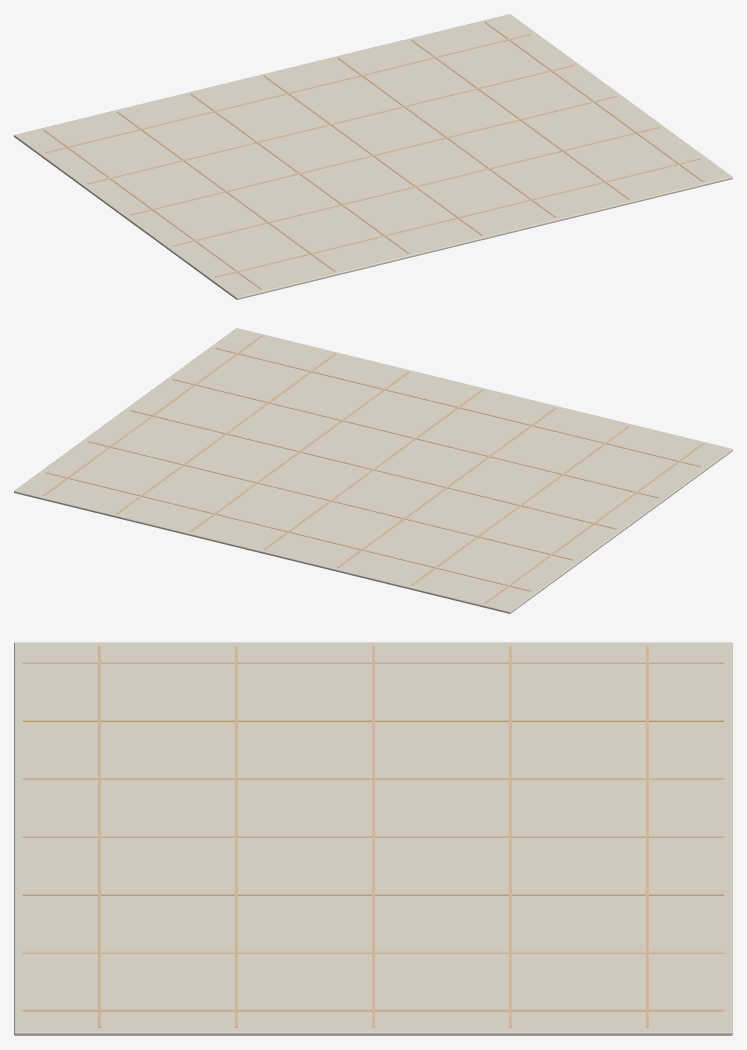
File: suite_rug_grid.glb
3 views of the same model, one above another, from view 1: azimuth 30°, elevation 25°; view 2: azimuth 150°, elevation 25°; view 3: azimuth 270°, elevation 25° (orthographic). The views are drawn at different scales.
Size of the model in its own units: 5.4 by 0.029 by 4.2.
